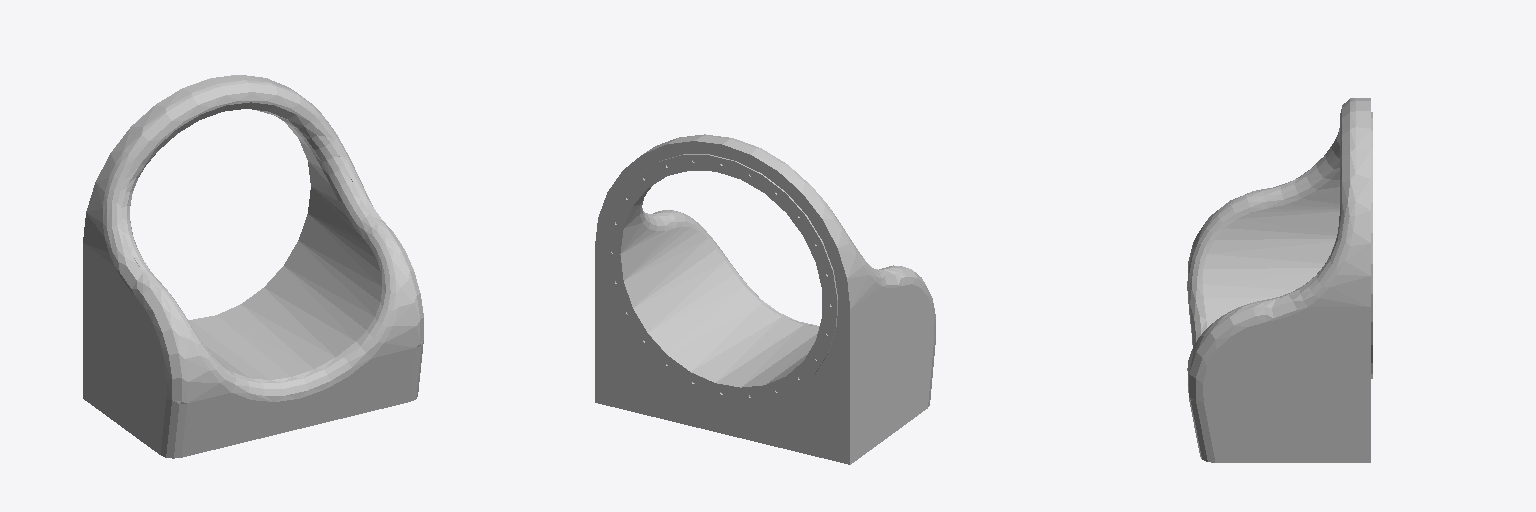
Rendered from udløb-obj.obj.
3 views of the same model, side by side, from view 1: azimuth 30°, elevation 25°; view 2: azimuth 150°, elevation 25°; view 3: azimuth 270°, elevation 25° (orthographic).
Parts seen in each view (by area): view 1: udløb-obj; view 2: udløb-obj; view 3: udløb-obj.
Part boxes in pixels (left/top/right/bottom): udløb-obj: left=83, top=75, right=423, bottom=458; udløb-obj: left=595, top=134, right=935, bottom=464; udløb-obj: left=1187, top=98, right=1372, bottom=462.
Bounding box in the file's own units: 0.969 × 1.05 × 0.6084.